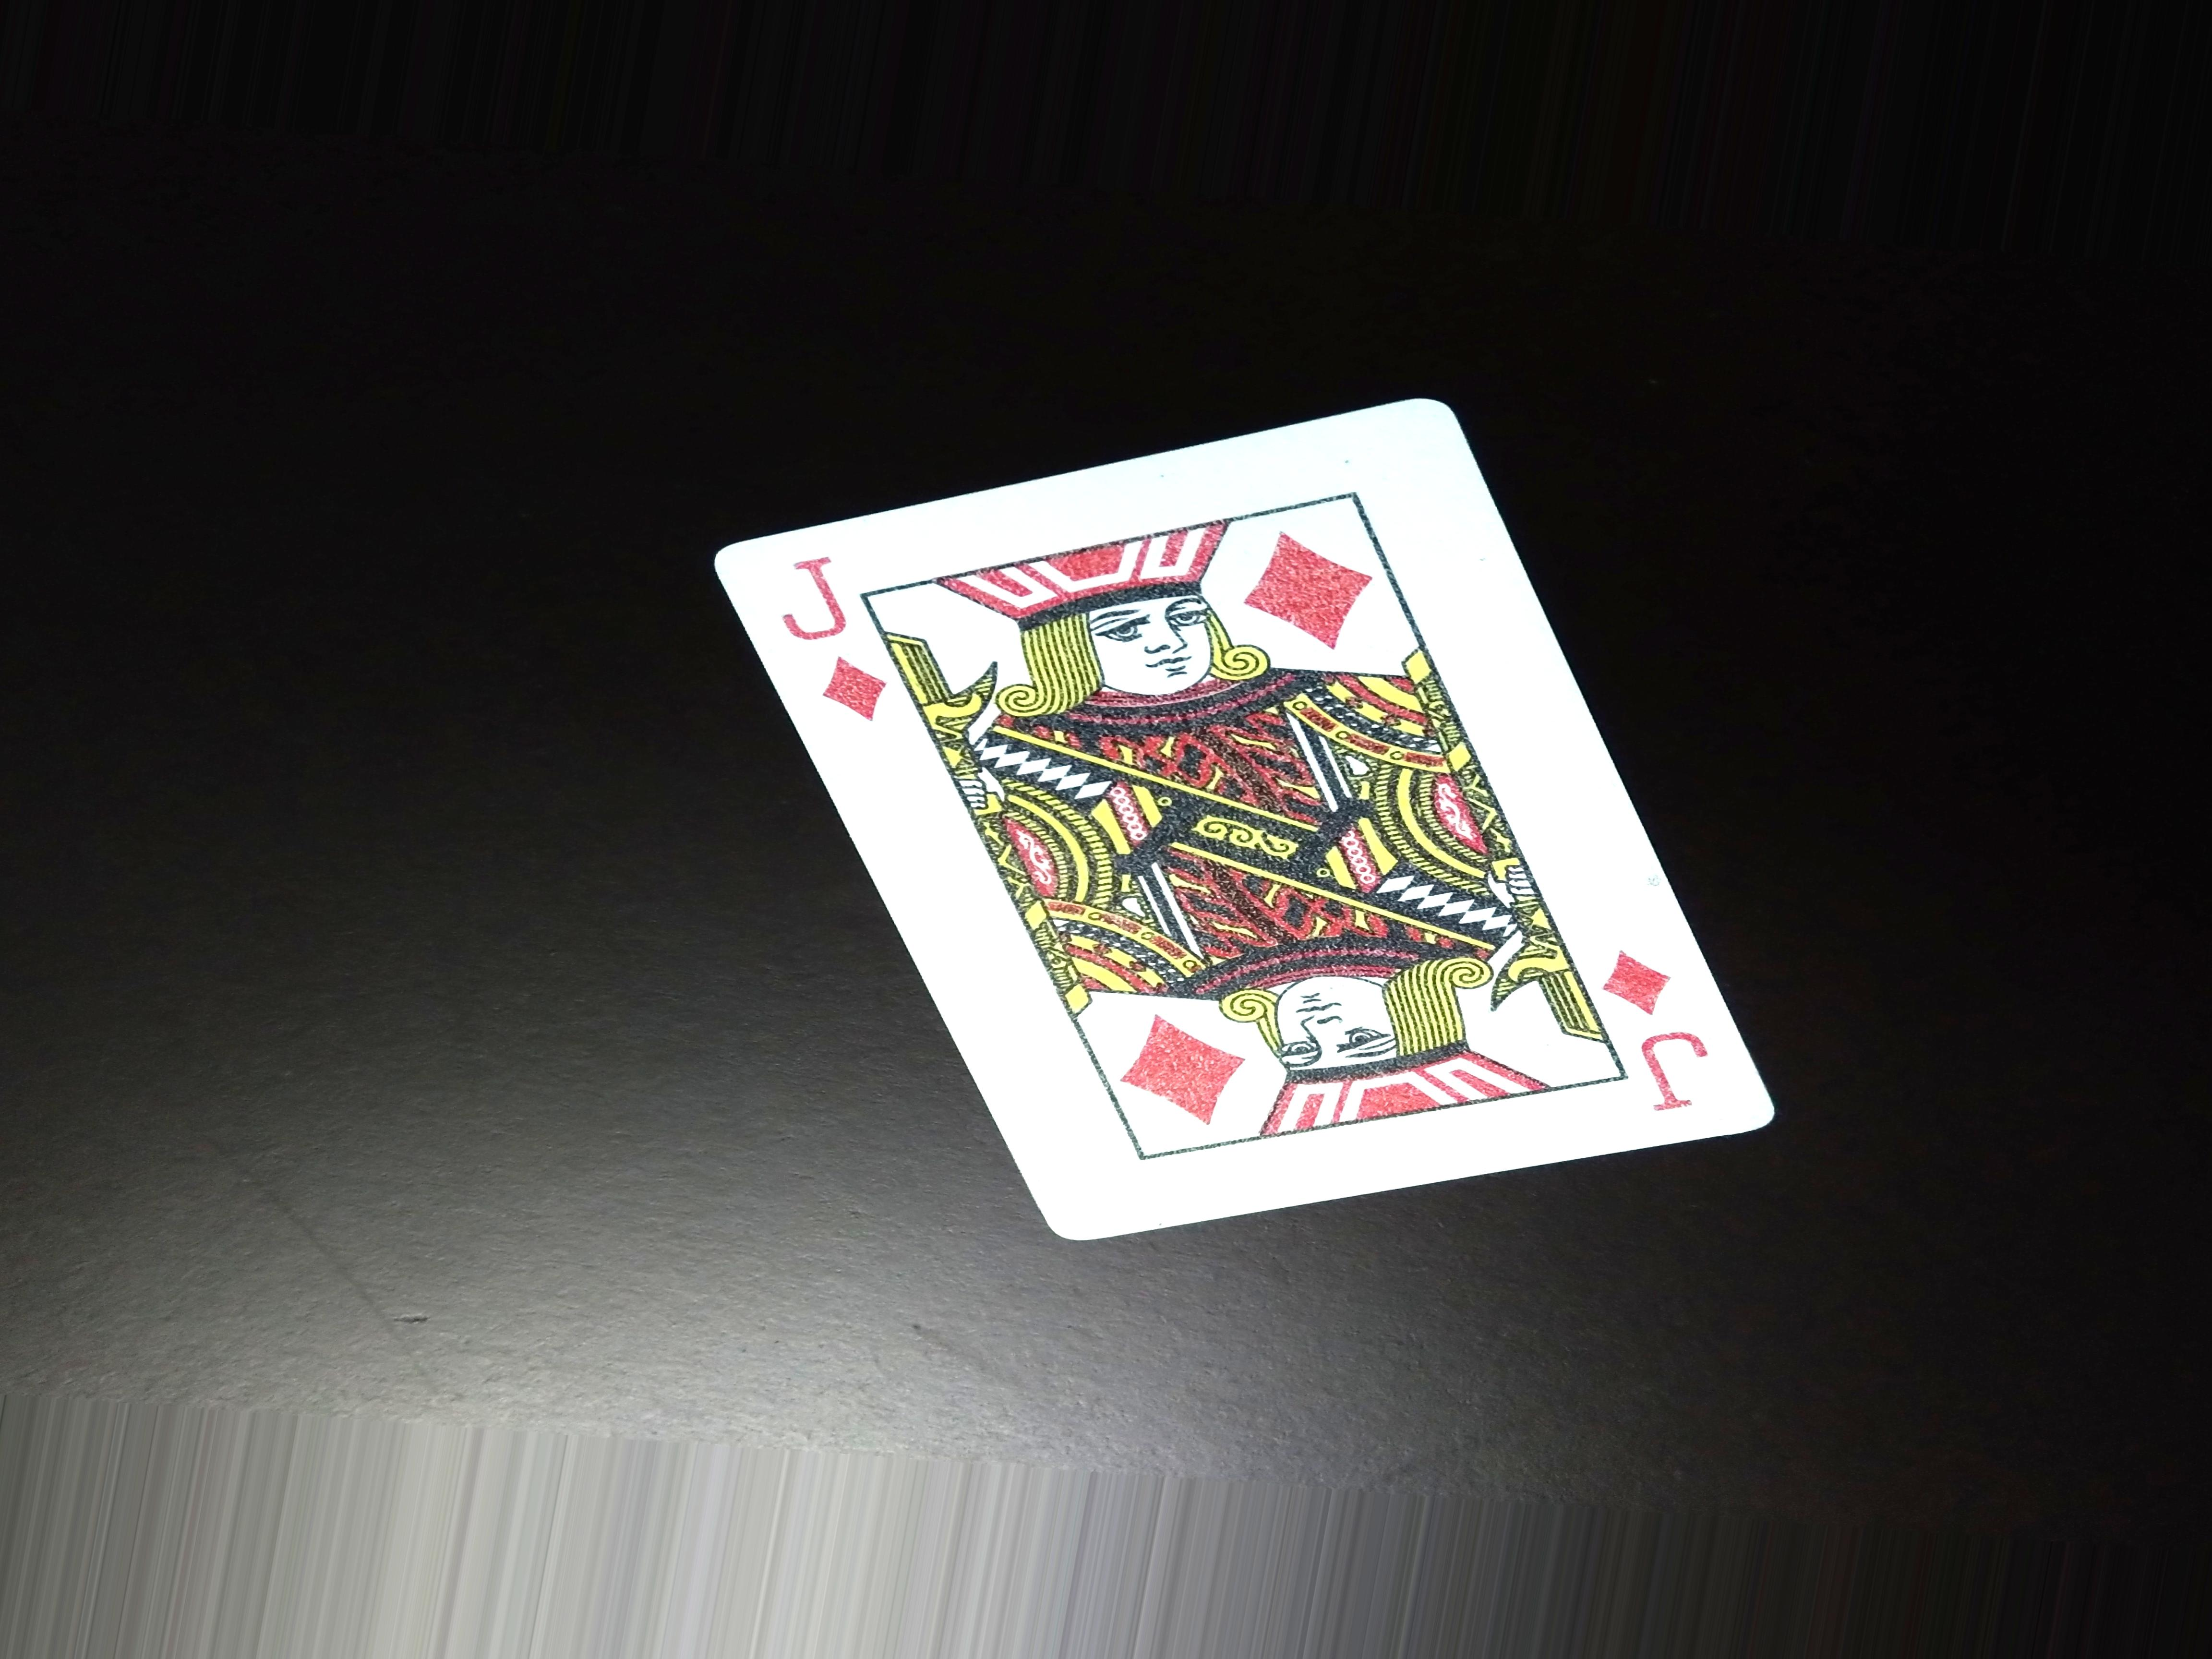JD: (1608, 946, 1700, 1136)
